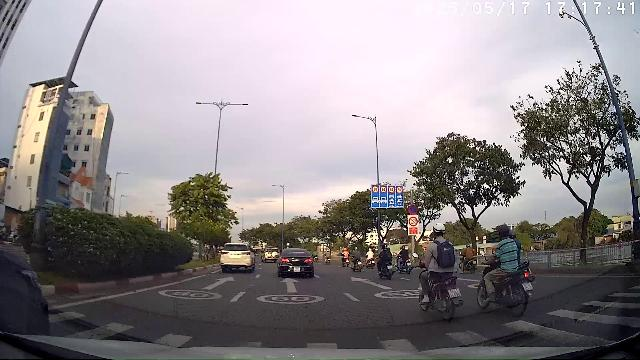127-toc-do-toi-da-50: (396, 187, 403, 194), (380, 186, 387, 193), (388, 186, 395, 193)
130-cam-dung-va-do-xe: (407, 204, 418, 215)
